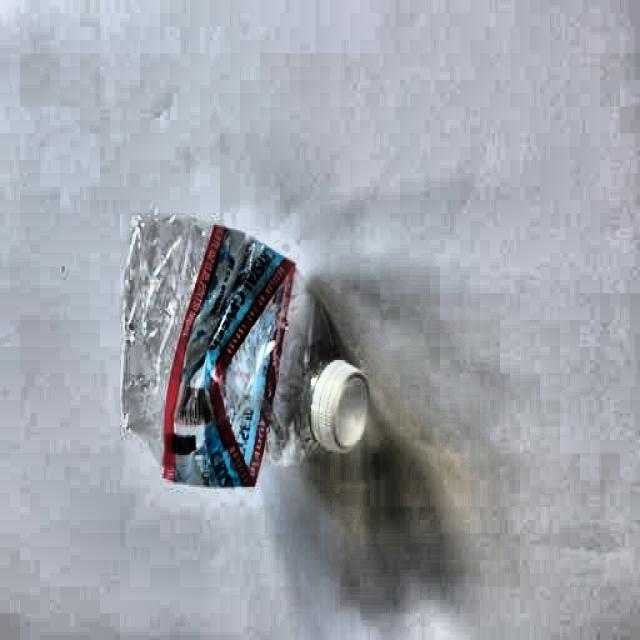plastic: (118, 208, 372, 492)
